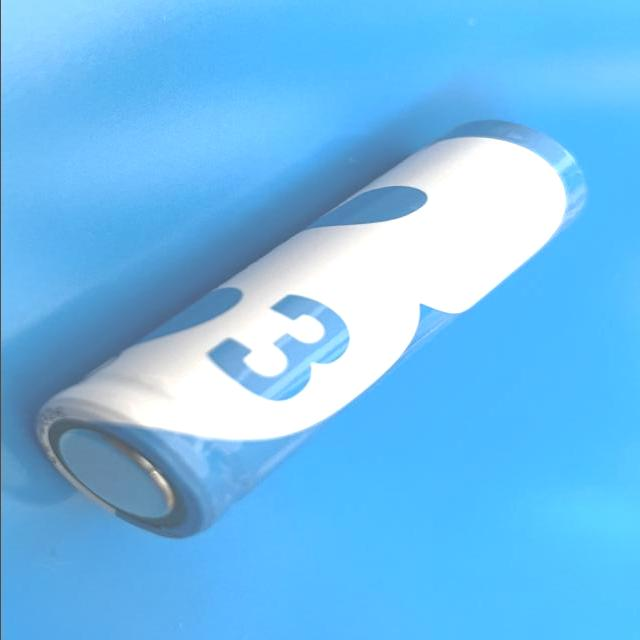AA: (32, 118, 589, 540)
